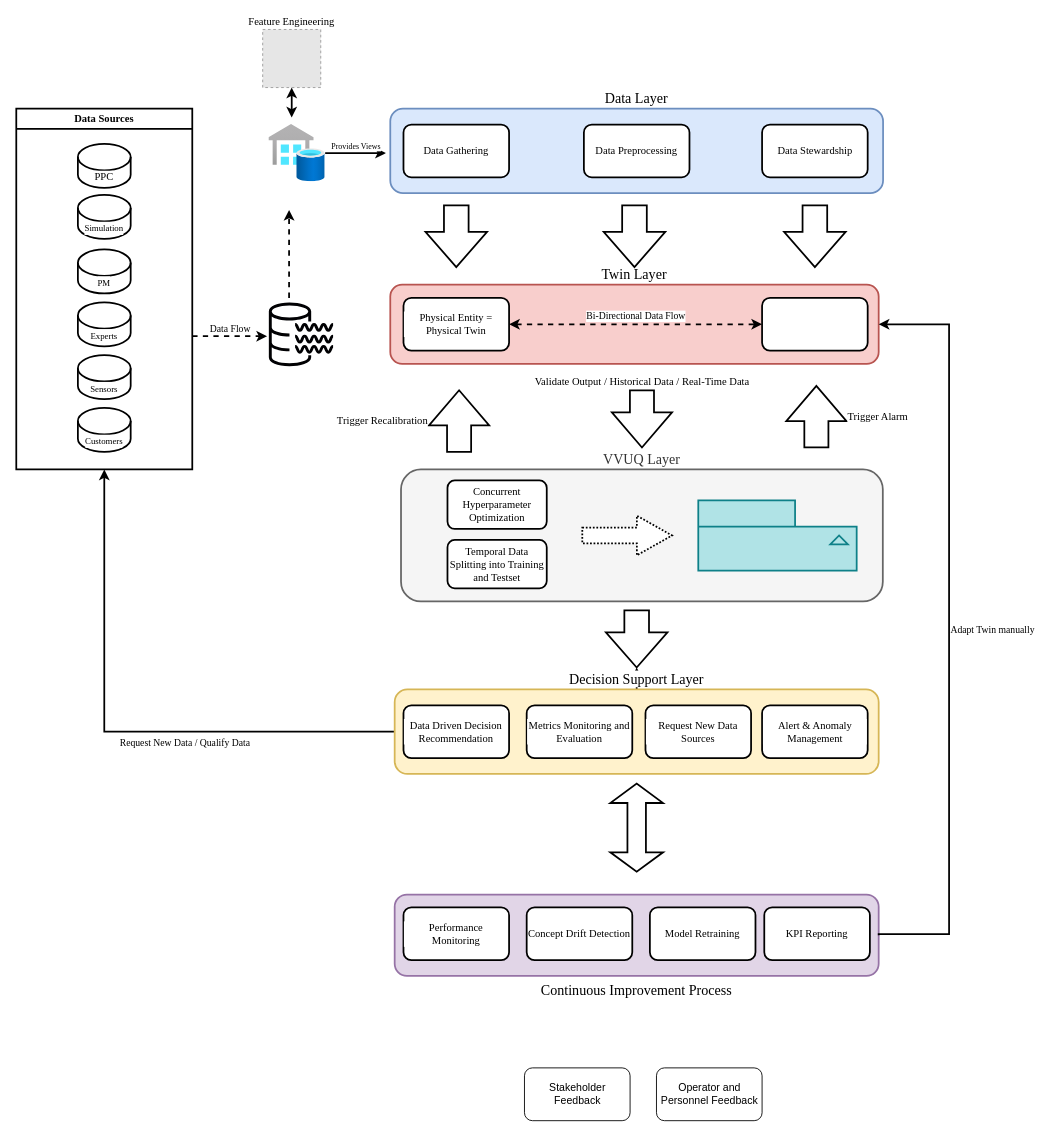
This 1050x1136 diagram has some shape labels left out. Grey dashed boxes stand in for pictures. Each missing label, with the centre of its shape:
"Action / Reporting / Integration" belongs at point 636,638.
"Continuous Improvement and Adaption" belongs at point 636,827.
"Data Lake" belongs at point 300,334.
"Data Warehouse" belongs at point 296,152.
"Digital Entity = SBDT" belongs at point 814,324.
"ResNet Bi-LSTM Attention Model" belongs at point 777,535.
